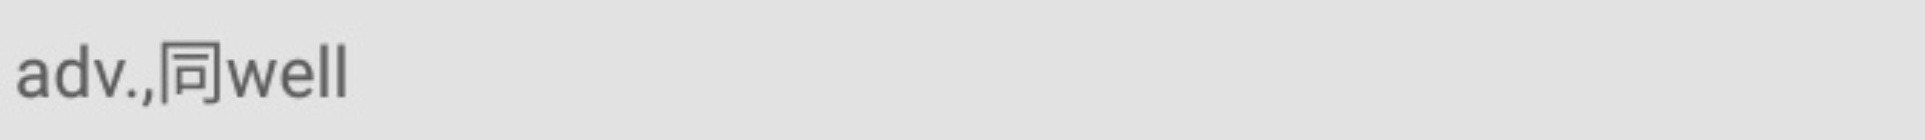TextView: (1, 1, 1924, 139)
